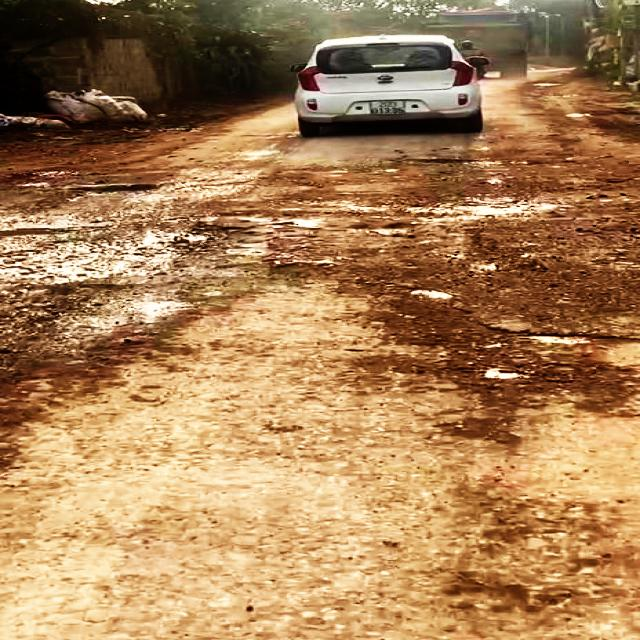pothole: (0, 206, 317, 296), (317, 192, 596, 217)
